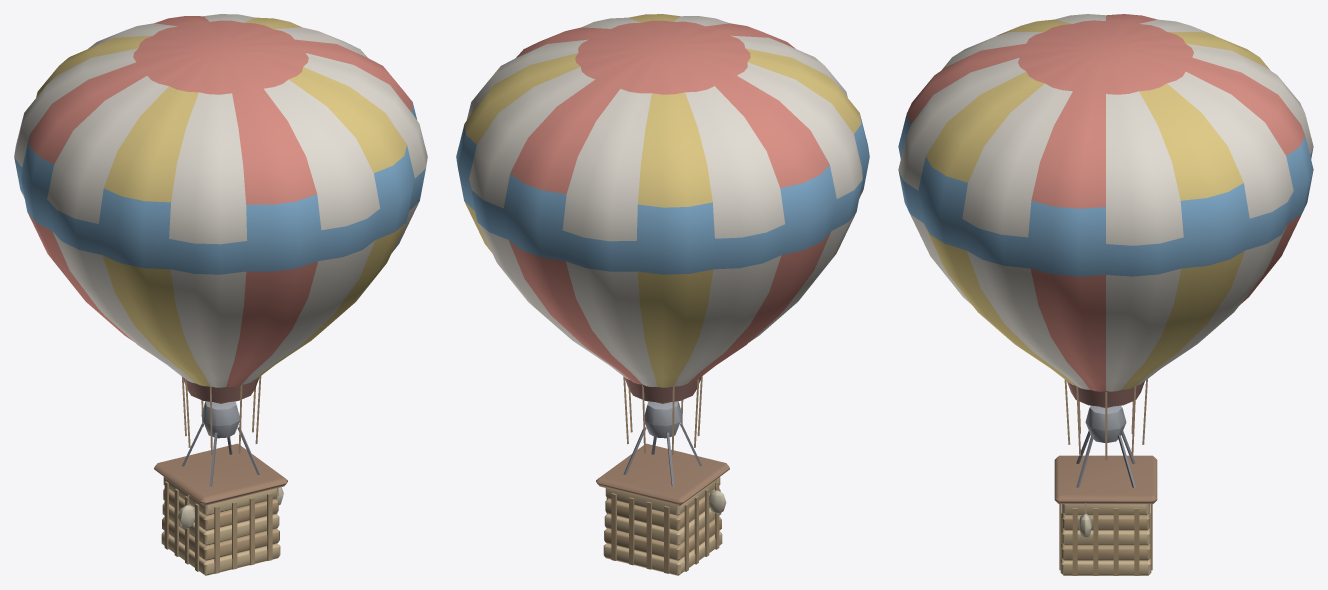
File: hot_air_balloon.gltf
3 views of the same model, side by side, from view 1: azimuth 30°, elevation 25°; view 2: azimuth 150°, elevation 25°; view 3: azimuth 270°, elevation 25° (orthographic).
Parts seen in each view (by area): view 1: hot_air_balloon; view 2: hot_air_balloon; view 3: hot_air_balloon.
Boxes of the visible parts, x1,y1,x2,y2 form: hot_air_balloon: (14, 14, 427, 575); hot_air_balloon: (456, 14, 869, 575); hot_air_balloon: (898, 14, 1313, 575).
Size of the model in its own units: 2.02 by 2.74 by 2.02.
